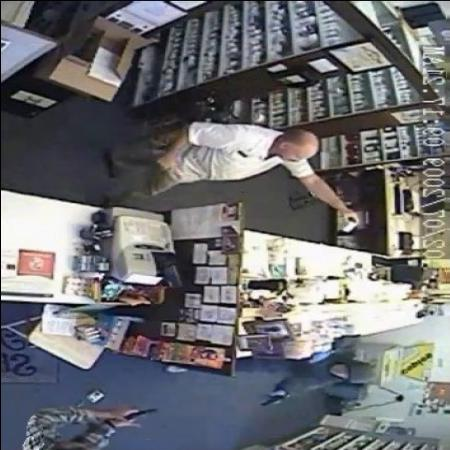Pistol: (124, 408, 158, 424), (260, 394, 288, 408)
